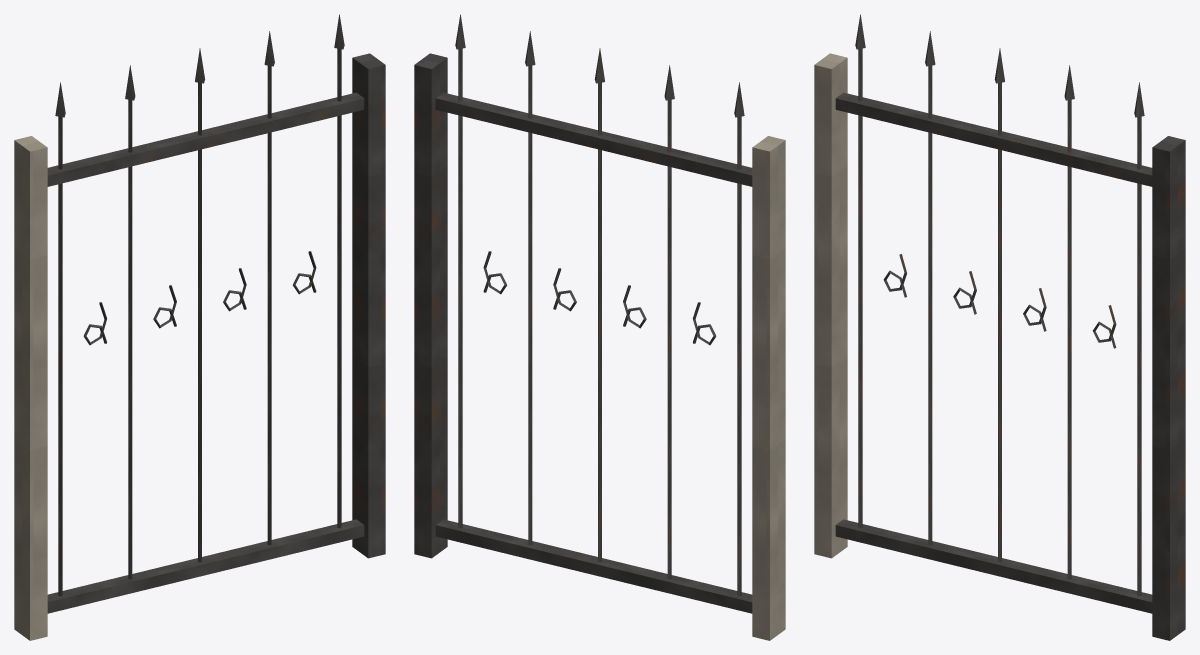
Rendered from Prop_MetalFence_Ornament_LOD1.gltf.
3 renders of one model, left to right at view 1: azimuth 30°, elevation 25°; view 2: azimuth 150°, elevation 25°; view 3: azimuth 330°, elevation 25°, orthographic.
Parts seen in each view (by area): view 1: Prop_MetalFence_Ornament_LOD1; view 2: Prop_MetalFence_Ornament_LOD1; view 3: Prop_MetalFence_Ornament_LOD1.
Boxes of the visible parts, x1,y1,x2,y2 form: Prop_MetalFence_Ornament_LOD1: (14, 14, 385, 640); Prop_MetalFence_Ornament_LOD1: (414, 14, 785, 640); Prop_MetalFence_Ornament_LOD1: (814, 14, 1185, 640).
Bounding box in the file's own units: 1.95 × 2.85 × 0.15.
Materials: 2 (2 with a texture image).
